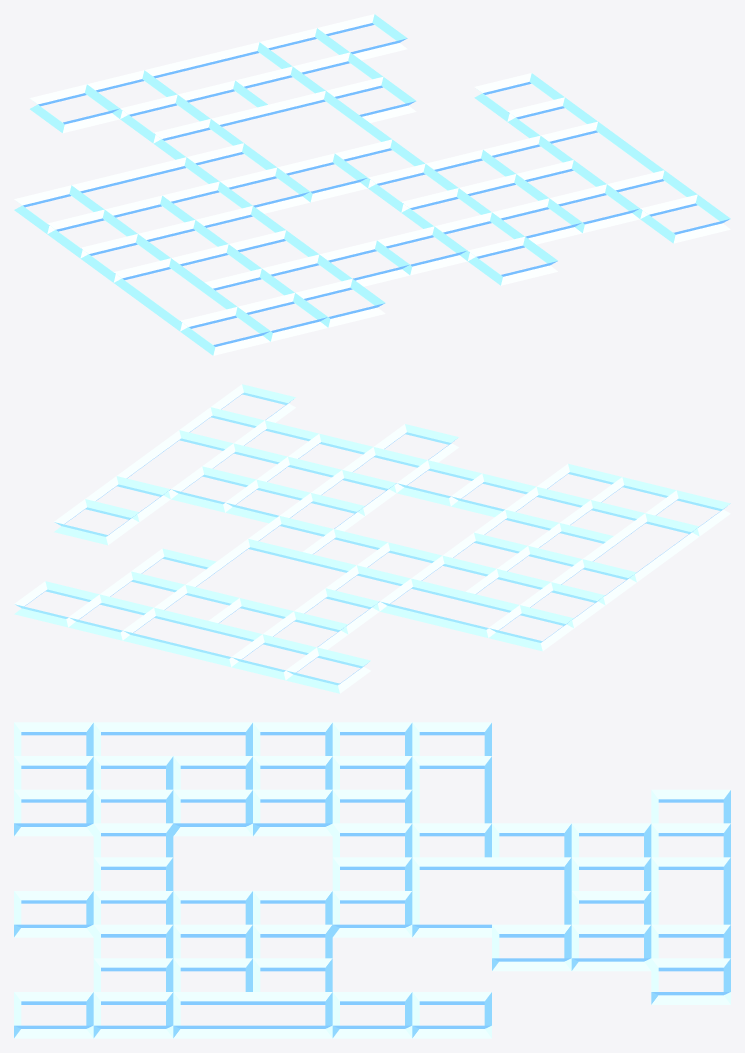
3 renders of one model, top to bottom at view 1: azimuth 30°, elevation 25°; view 2: azimuth 150°, elevation 25°; view 3: azimuth 270°, elevation 25°, orthographic. The views are drawn at different scales.
Parts seen in each view (by area): view 1: Grid; view 2: Grid; view 3: Grid.
Boxes of the visible parts, left/top/right/bottom form: Grid: left=14, top=14, right=730, bottom=355; Grid: left=14, top=384, right=730, bottom=693; Grid: left=14, top=722, right=730, bottom=1038.
Bounding box in the file's own units: 2 × 0.04 × 2.
Materials: 1 (1 with a texture image).
